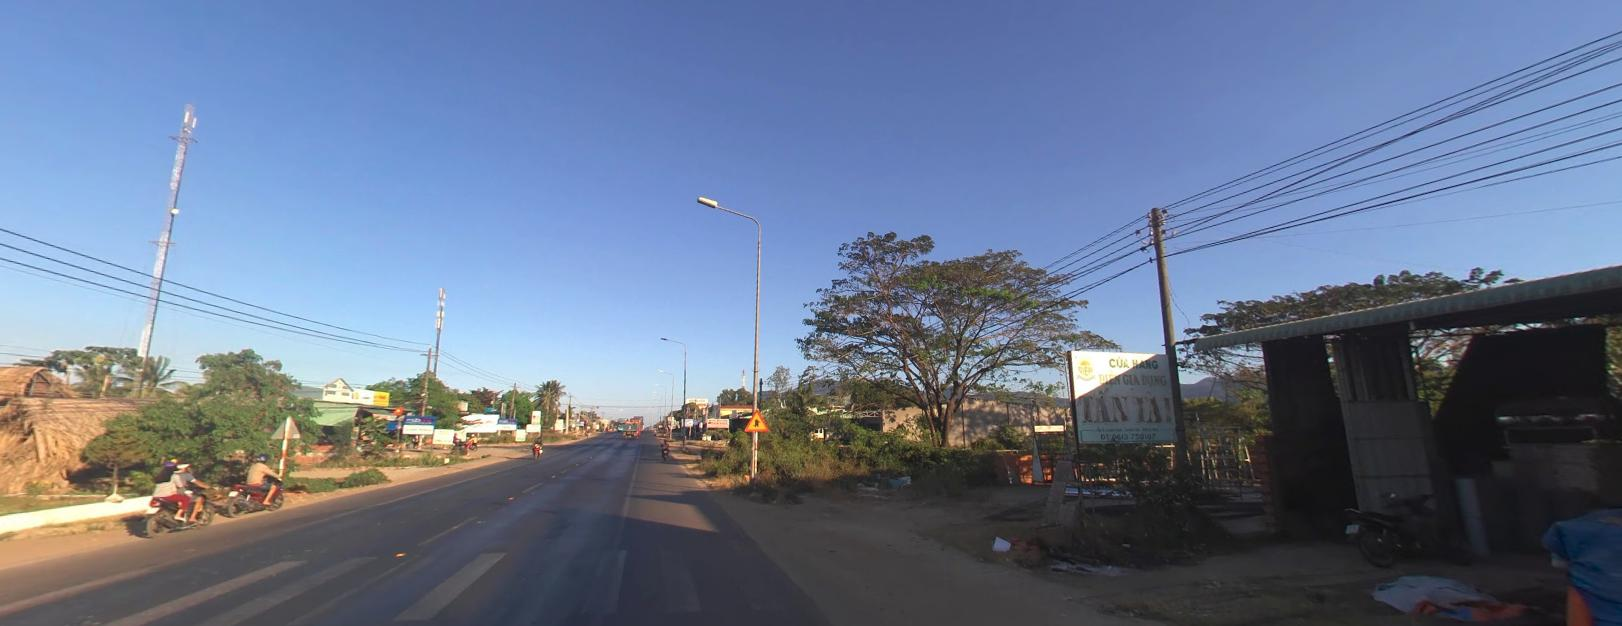Nguy hiem: (743, 406, 769, 431), (743, 407, 770, 431), (743, 408, 769, 430), (744, 408, 769, 430)
